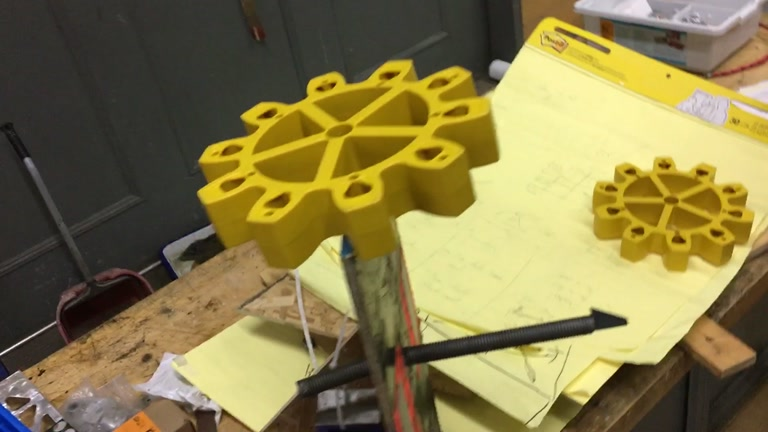gear: (194, 60, 501, 269), (590, 156, 756, 272)
